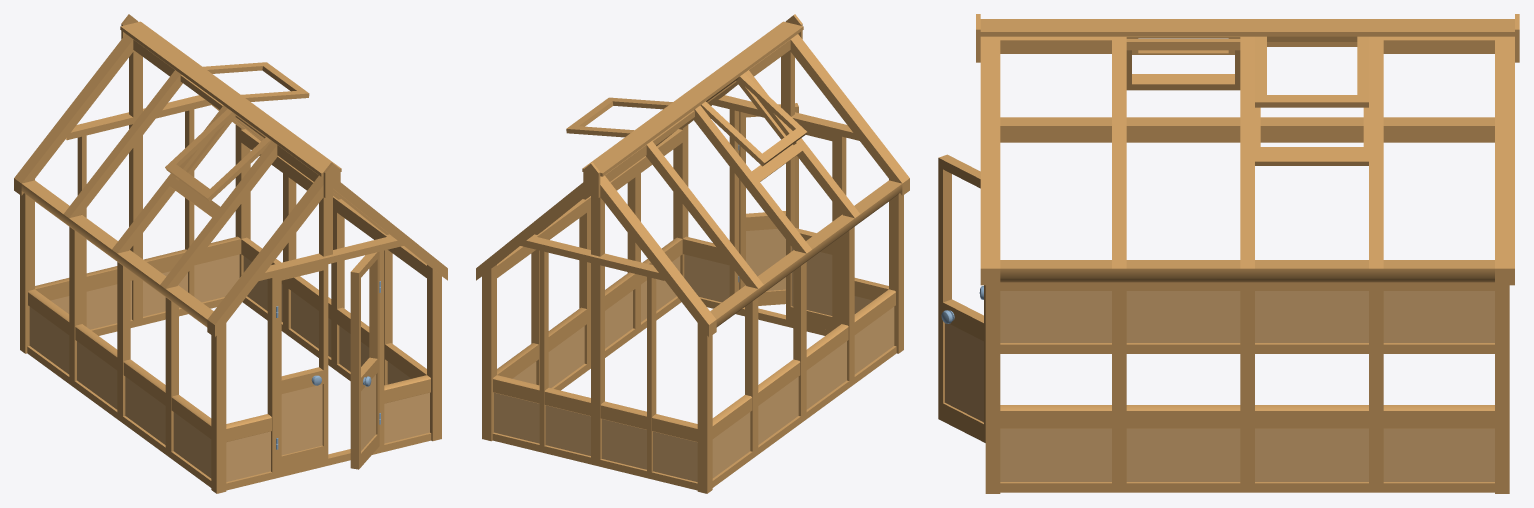
The model's file is Greenhouse_01.fbx.
3 renders of one model, left to right at view 1: azimuth 30°, elevation 25°; view 2: azimuth 150°, elevation 25°; view 3: azimuth 270°, elevation 25°, orthographic. The views are drawn at different scales.
Visible parts, largest first — view 1: Greenhouse_01, R_door_greenhouse, L_door_greenhouse, R_window_greenhouse, L_window_greenhouse; view 2: Greenhouse_01, R_door_greenhouse, L_door_greenhouse, R_window_greenhouse, L_window_greenhouse; view 3: Greenhouse_01, L_door_greenhouse, L_window_greenhouse, R_window_greenhouse.
Part boxes in pixels (x1=…): Greenhouse_01: x1=14, y1=14, x2=447, y2=493; R_door_greenhouse: x1=277, y1=264, x2=328, y2=470; L_door_greenhouse: x1=350, y1=251, x2=379, y2=469; R_window_greenhouse: x1=165, y1=109, x2=271, y2=201; L_window_greenhouse: x1=203, y1=62, x2=309, y2=101; Greenhouse_01: x1=476, y1=14, x2=909, y2=493; R_door_greenhouse: x1=786, y1=127, x2=837, y2=330; L_door_greenhouse: x1=739, y1=103, x2=798, y2=305; R_window_greenhouse: x1=700, y1=73, x2=806, y2=166; L_window_greenhouse: x1=566, y1=97, x2=672, y2=137; Greenhouse_01: x1=976, y1=14, x2=1519, y2=493; L_door_greenhouse: x1=938, y1=154, x2=985, y2=442; L_window_greenhouse: x1=1255, y1=36, x2=1368, y2=107; R_window_greenhouse: x1=1126, y1=36, x2=1240, y2=54.
Bounding box in the file's own units: 10.91 × 13.67 × 17.7.
